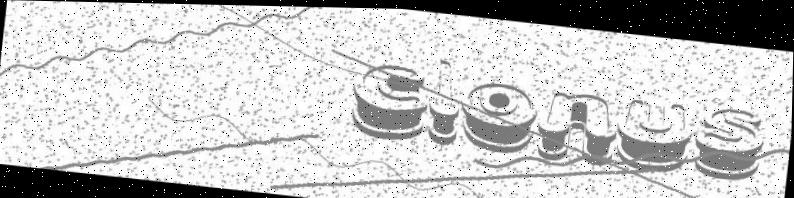c: (348, 60, 433, 143)
l: (425, 54, 466, 145)
n: (536, 86, 621, 164)
o: (458, 77, 541, 154)
s: (692, 100, 767, 180)
u: (614, 93, 697, 173)
